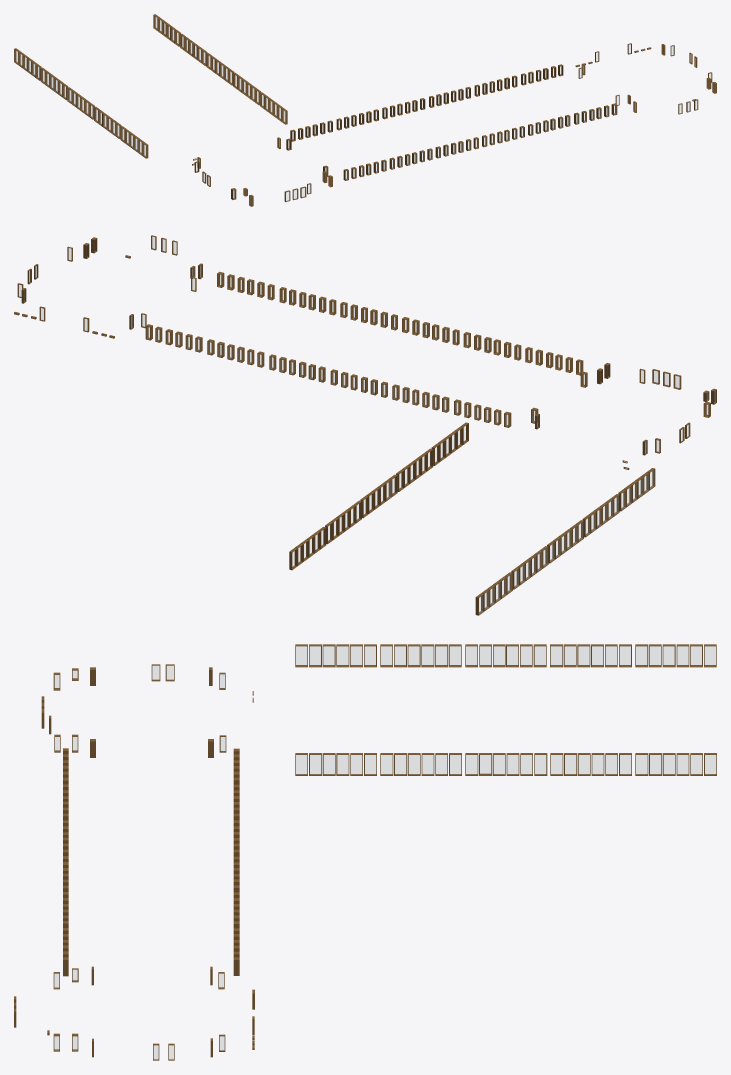
The model's file is insaat_revit.ifc.ifc.ifc.ifc_96.5 Dekanlık- D200_IfcWindow.dae.
3 renders of one model, top to bottom at view 1: azimuth 30°, elevation 25°; view 2: azimuth 150°, elevation 25°; view 3: azimuth 270°, elevation 25°, orthographic. The views are drawn at different scales.
Size of the model in its own units: 79.18 by 59.55 by 2.79.
